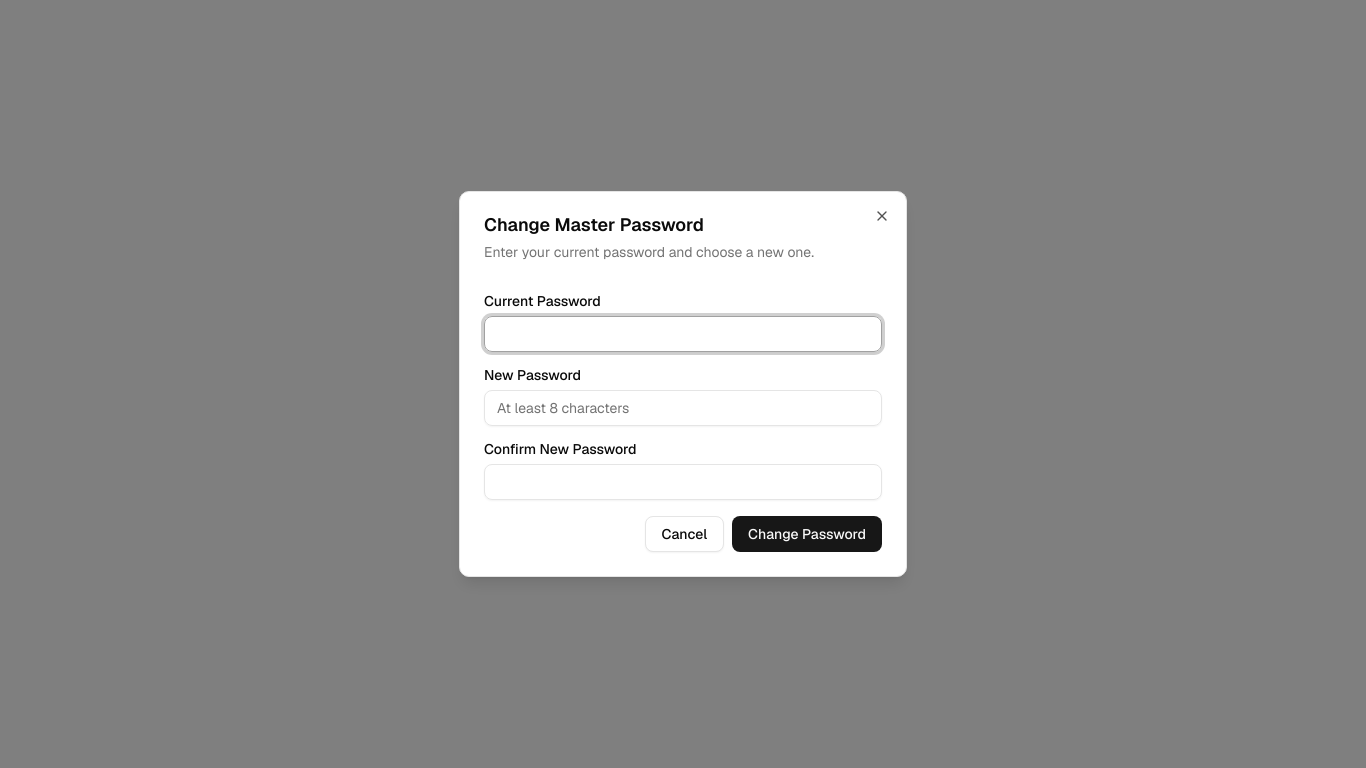
Test: ChangePasswordDialog › shows error for short new password
The width and height of the screenshot is (1366, 768).
Type "oldpass123" into the password field labelled "Current Password" at [683, 334], box [484,316,882,352]
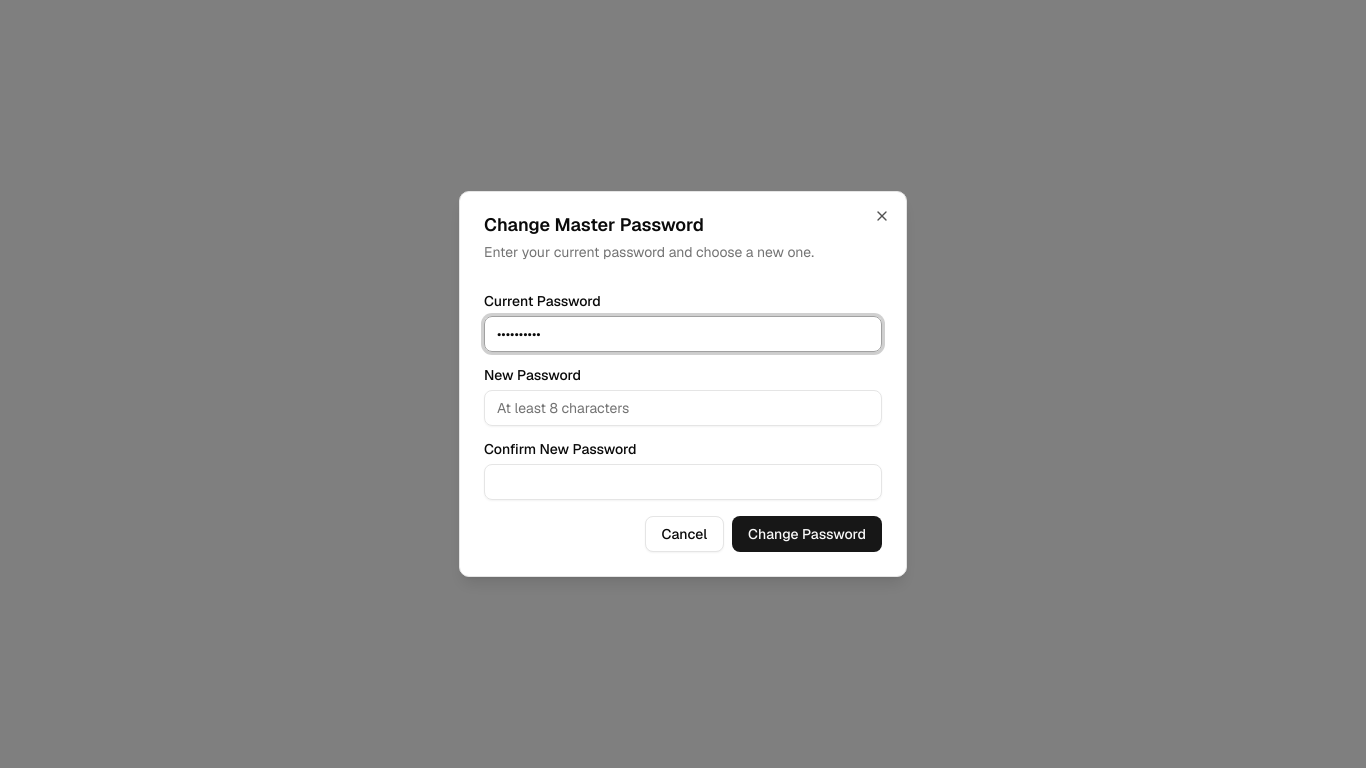
Type "short" into the password field labelled "New Password" at [683, 408], box [484,390,882,426]
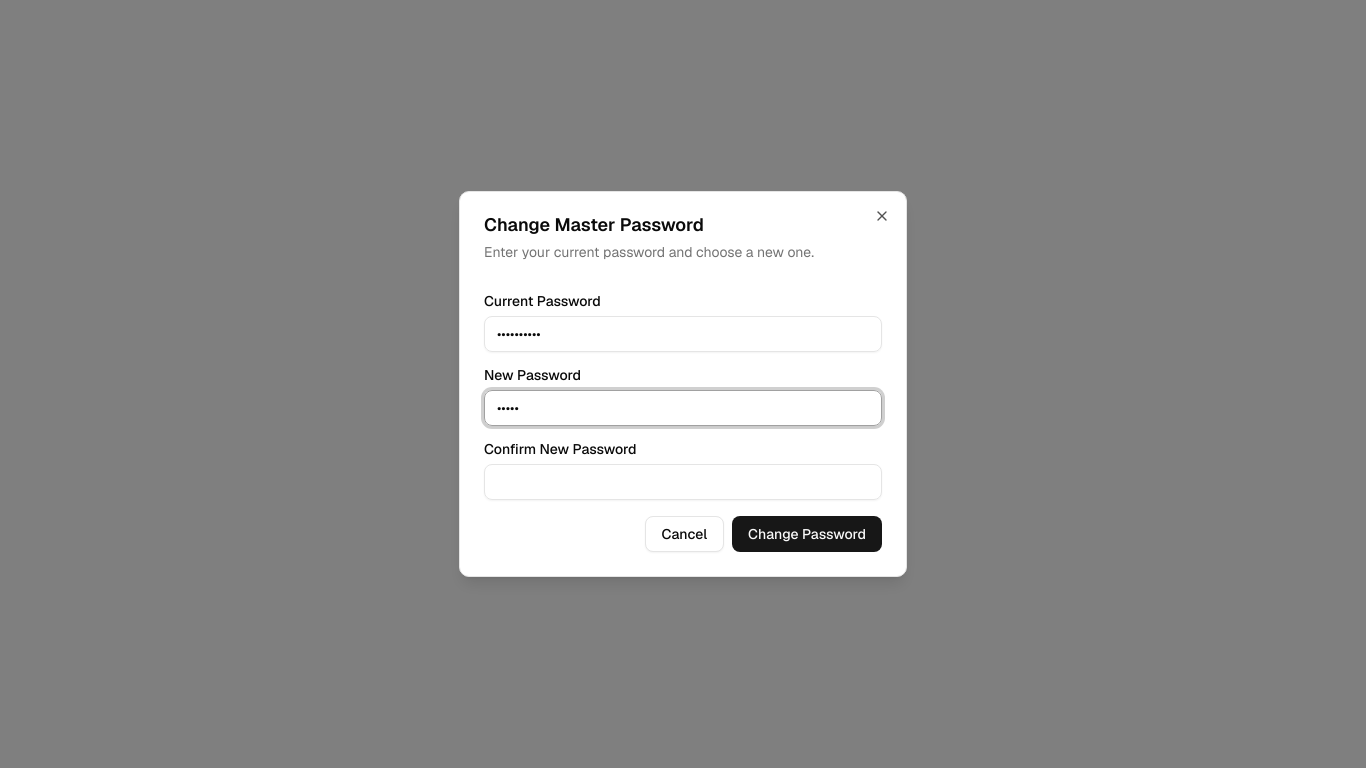
Type "short" into the password field labelled "Confirm New Password" at [683, 482], box [484,464,882,500]
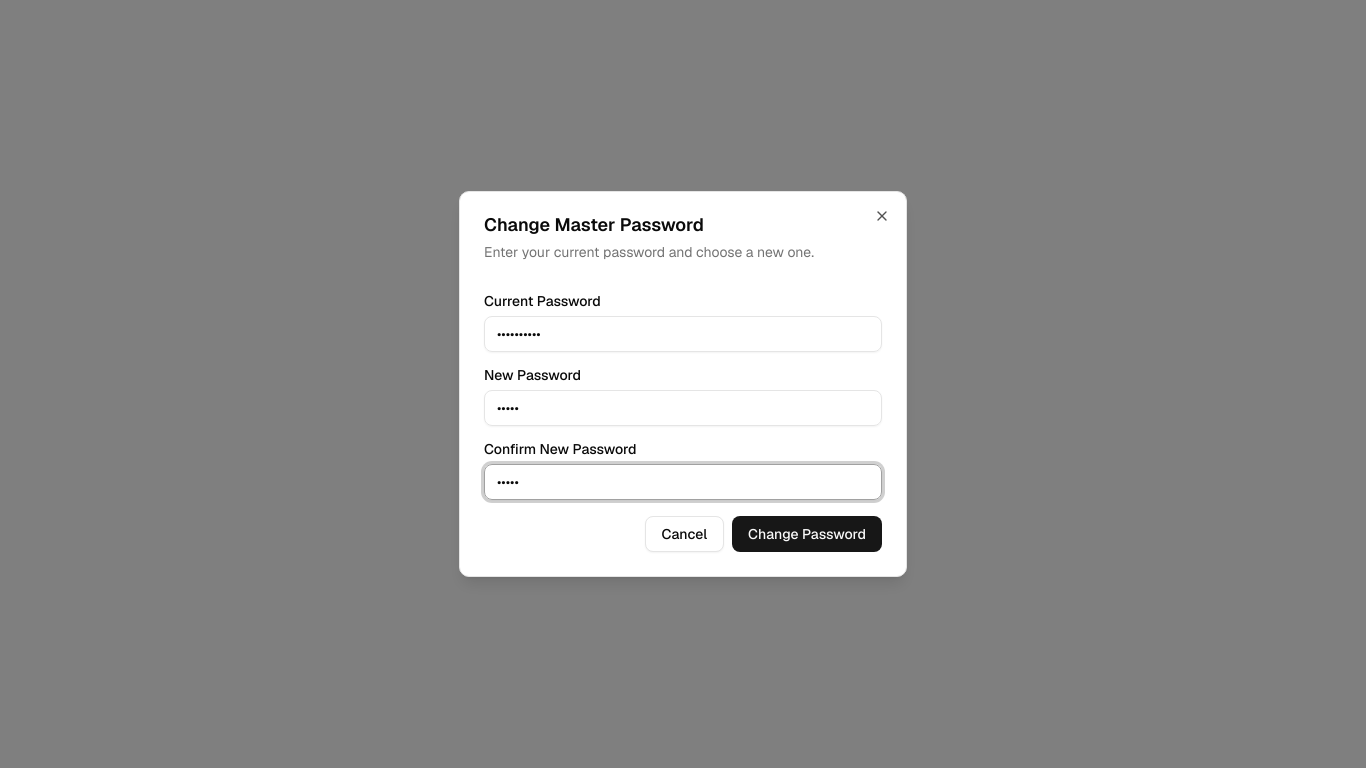
Click the button "Change Password" at [807, 534], box [732,516,882,552]
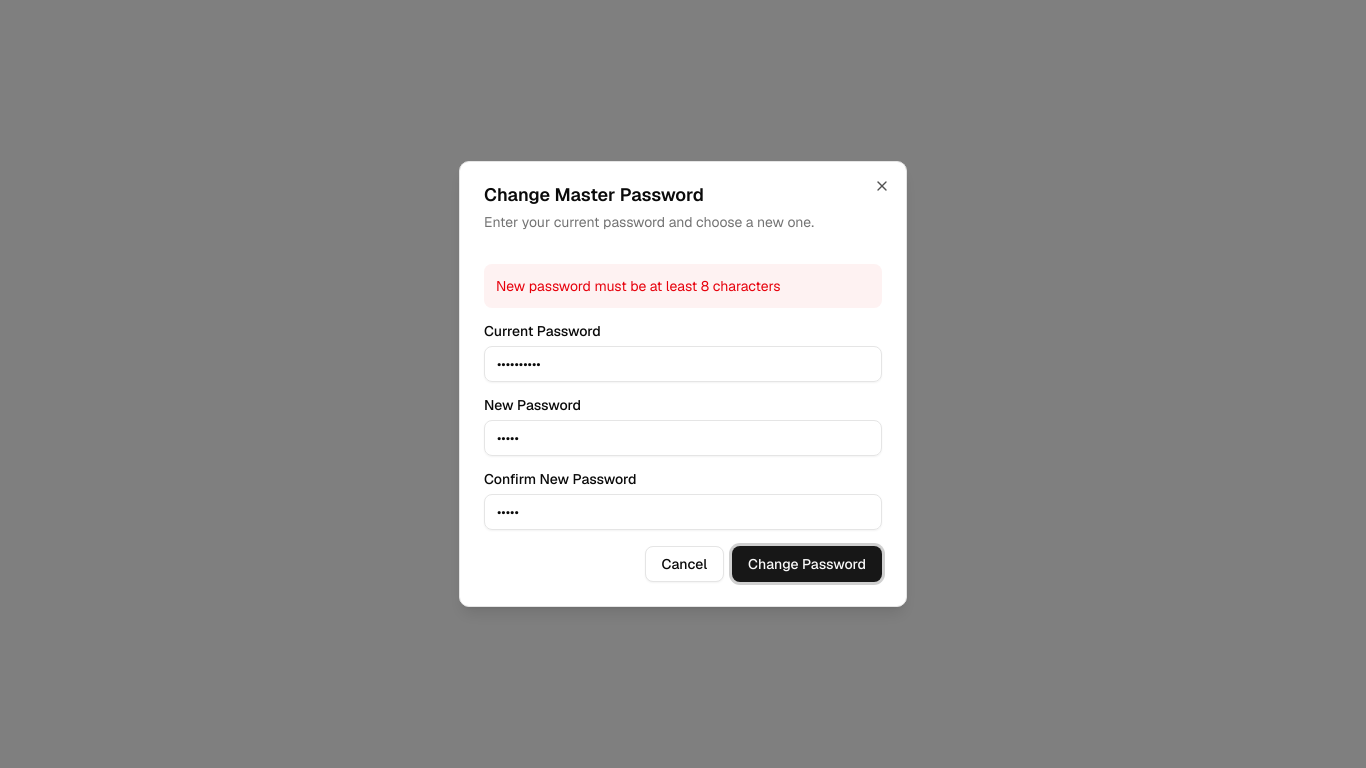
Check: the text "New password must be at least 8 characters" is shown, box [484,264,882,308]
